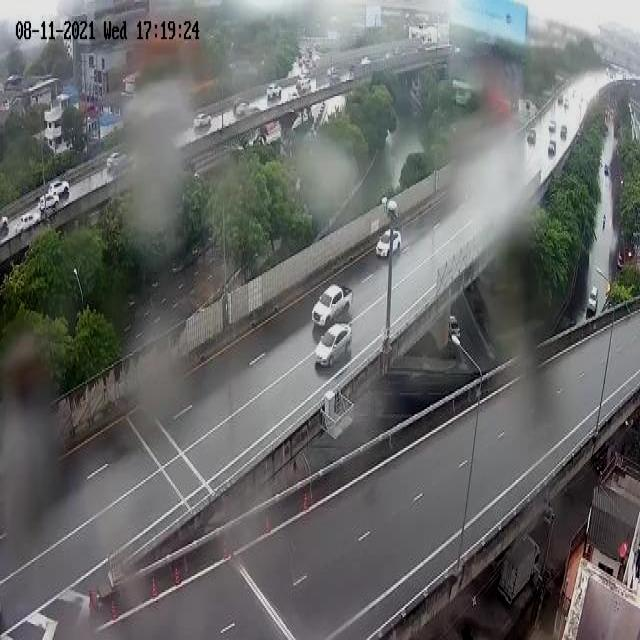Car: (312, 281, 354, 330), (314, 322, 352, 372), (374, 226, 402, 261)
